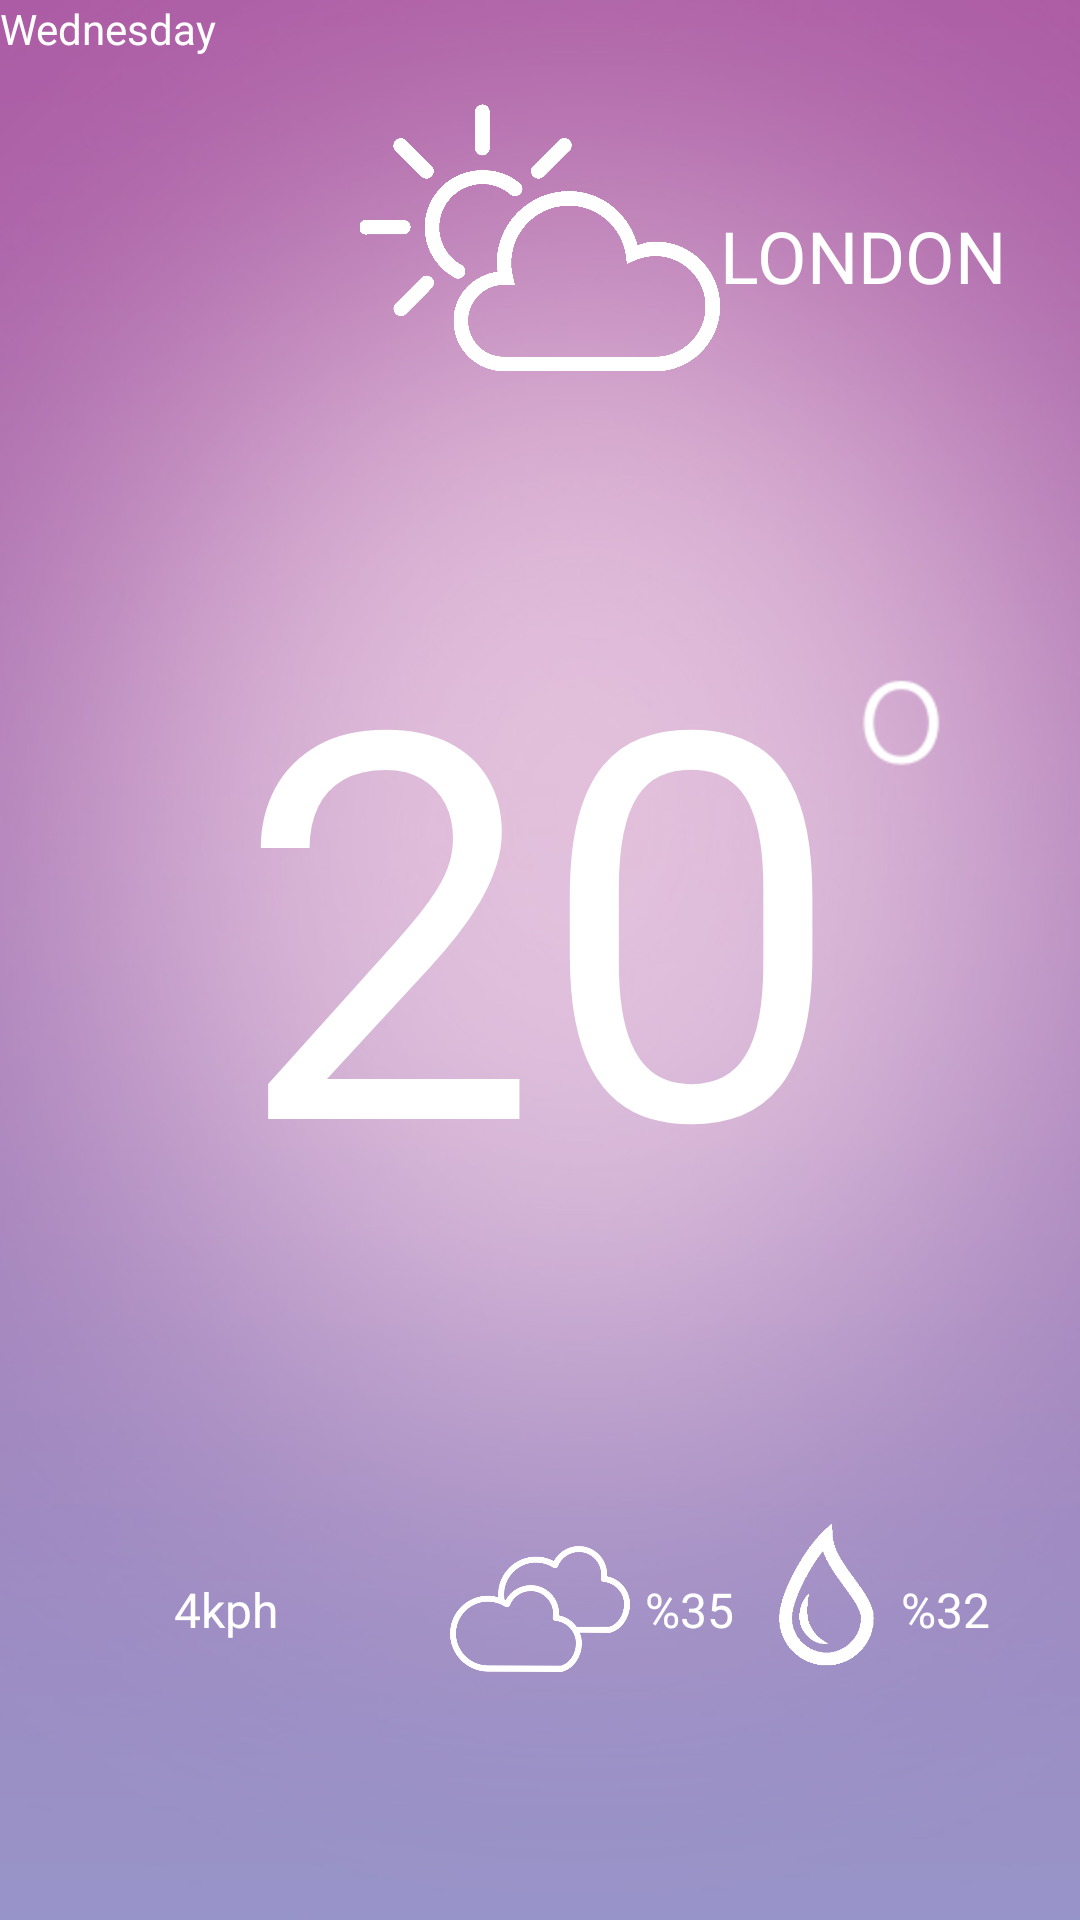

Where to tap for icons on this 1080px x 1920px app screen, as point (x, y):
degree: point (891, 721)
drop: point (826, 1594)
sun: point (540, 256)
